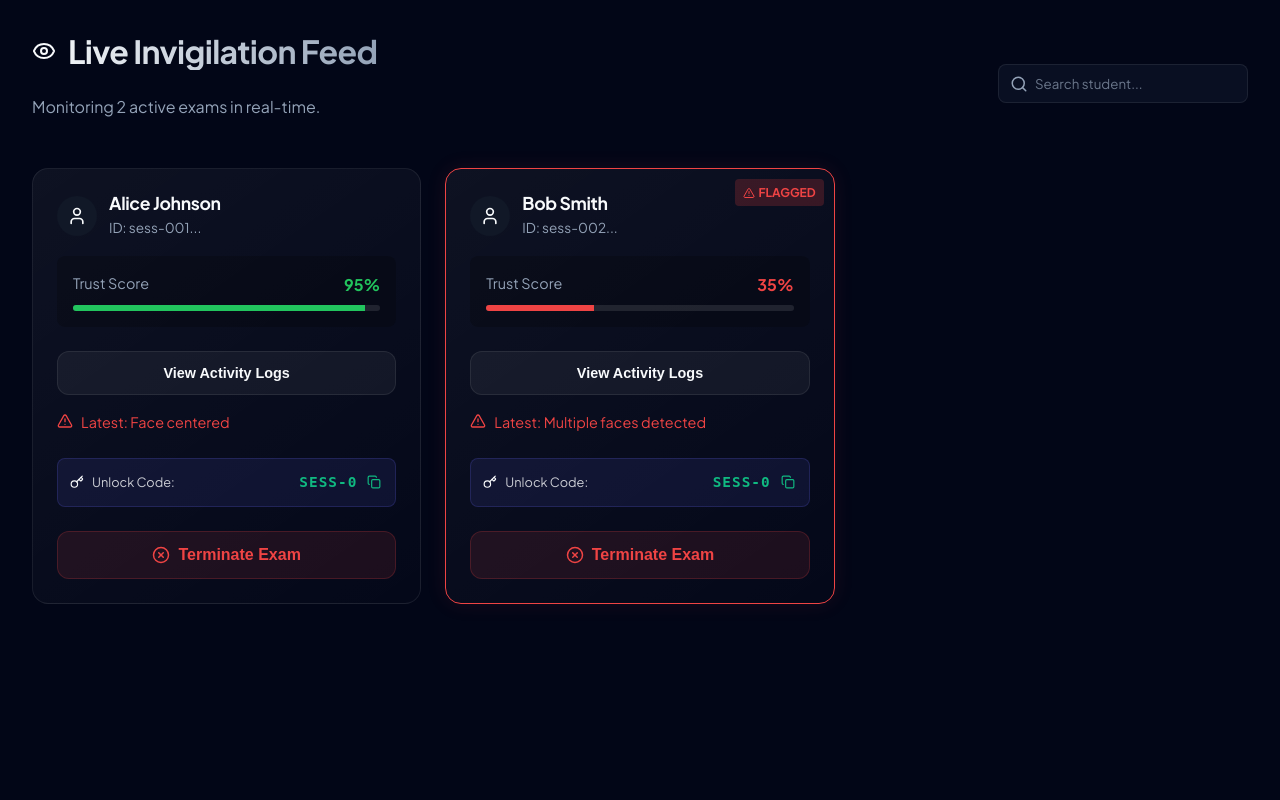
Test: LiveFeedPage › filters sessions based on search input
This screenshot has width=1280, height=800.
Expected: the heading "Alice Johnson" is shown, [109,193,221,214]
Type "Alice" into the field with placeholder "Search student..." at (1123, 84), box [998,64,1248,104]
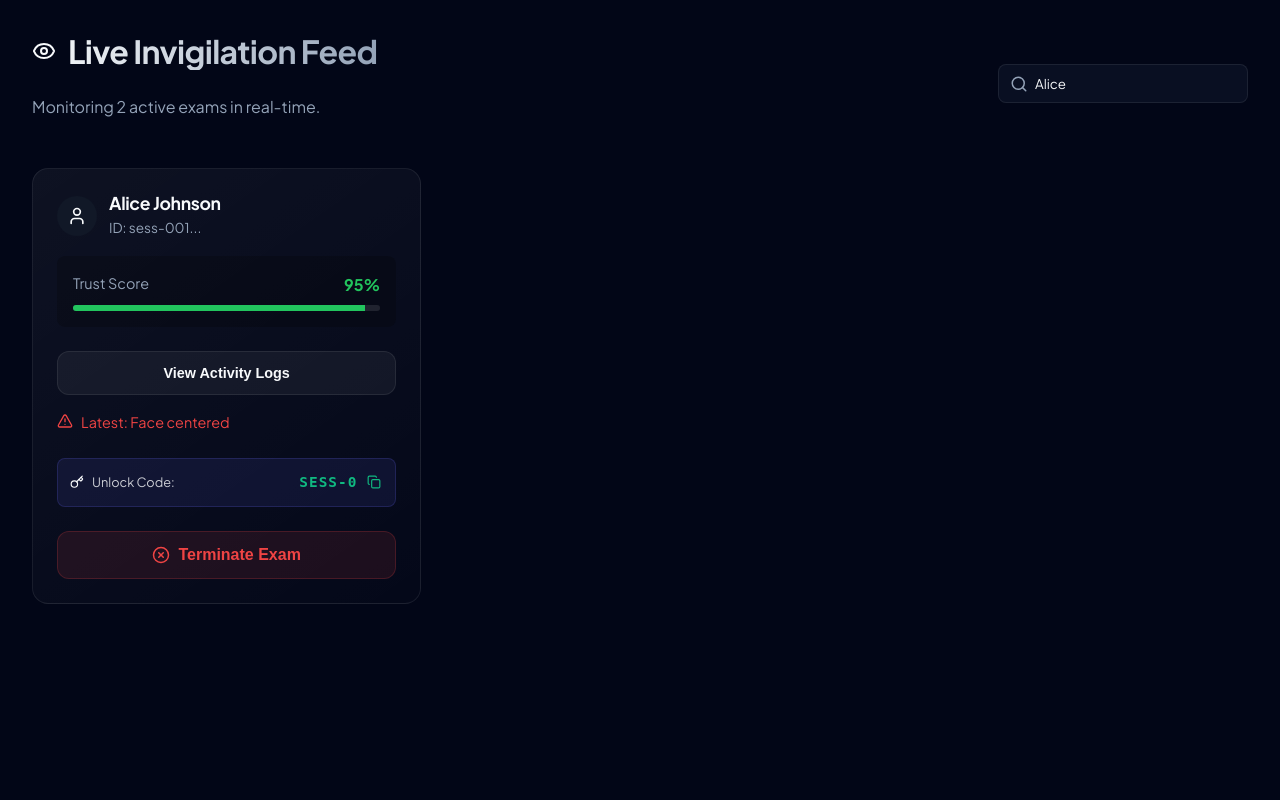
Expected: the heading "Alice Johnson" is shown, [109,193,221,214]
Expected: the heading "Bob Smith" is gone
